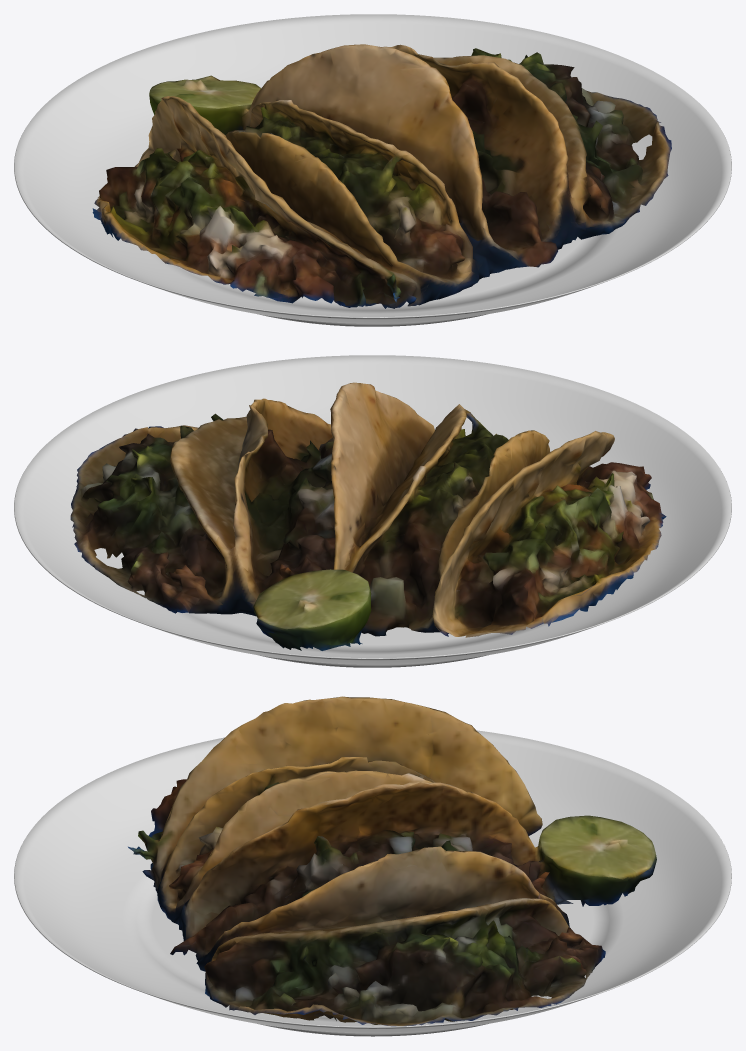
File: TacosOPT.fbx
3 renders of one model, top to bottom at view 1: azimuth 30°, elevation 25°; view 2: azimuth 150°, elevation 25°; view 3: azimuth 270°, elevation 25°, orthographic.
Parts seen in each view (by area): view 1: Mesh_0_Part_0.007, Plate; view 2: Mesh_0_Part_0.007, Plate; view 3: Mesh_0_Part_0.007, Plate.
Boxes of the visible parts, <box> form: Mesh_0_Part_0.007: <box>92,44,671,308</box>; Plate: <box>14,14,731,326</box>; Mesh_0_Part_0.007: <box>70,382,666,650</box>; Plate: <box>14,355,731,667</box>; Mesh_0_Part_0.007: <box>128,696,656,1026</box>; Plate: <box>14,730,731,1036</box>.
Size of the model in its own units: 24.72 by 6.44 by 24.72.
Materials: 2 (1 with a texture image).
